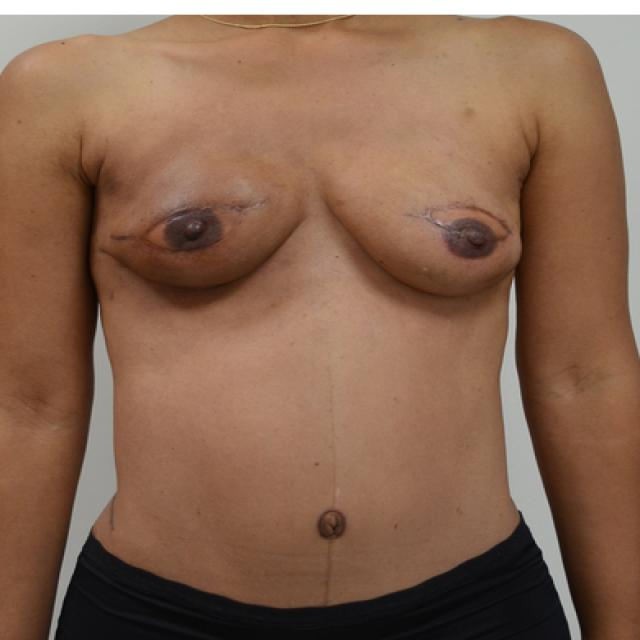Seno herido: (87, 123, 315, 314), (320, 123, 531, 314)
